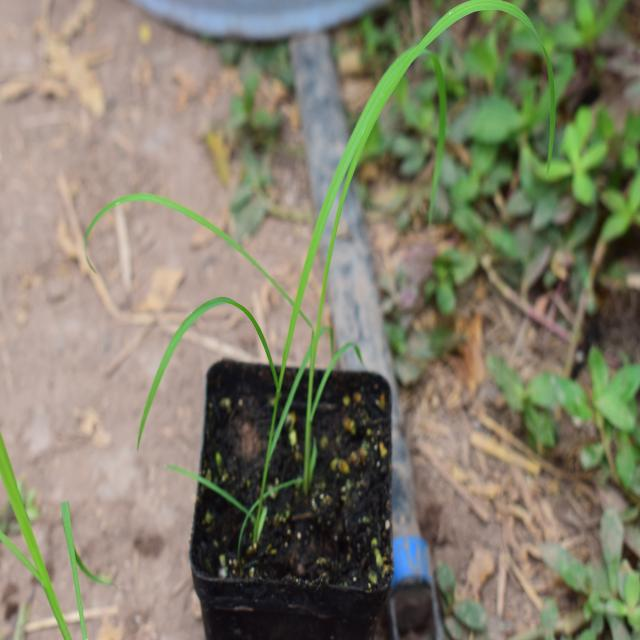barnyard_grass: (97, 17, 533, 475)
